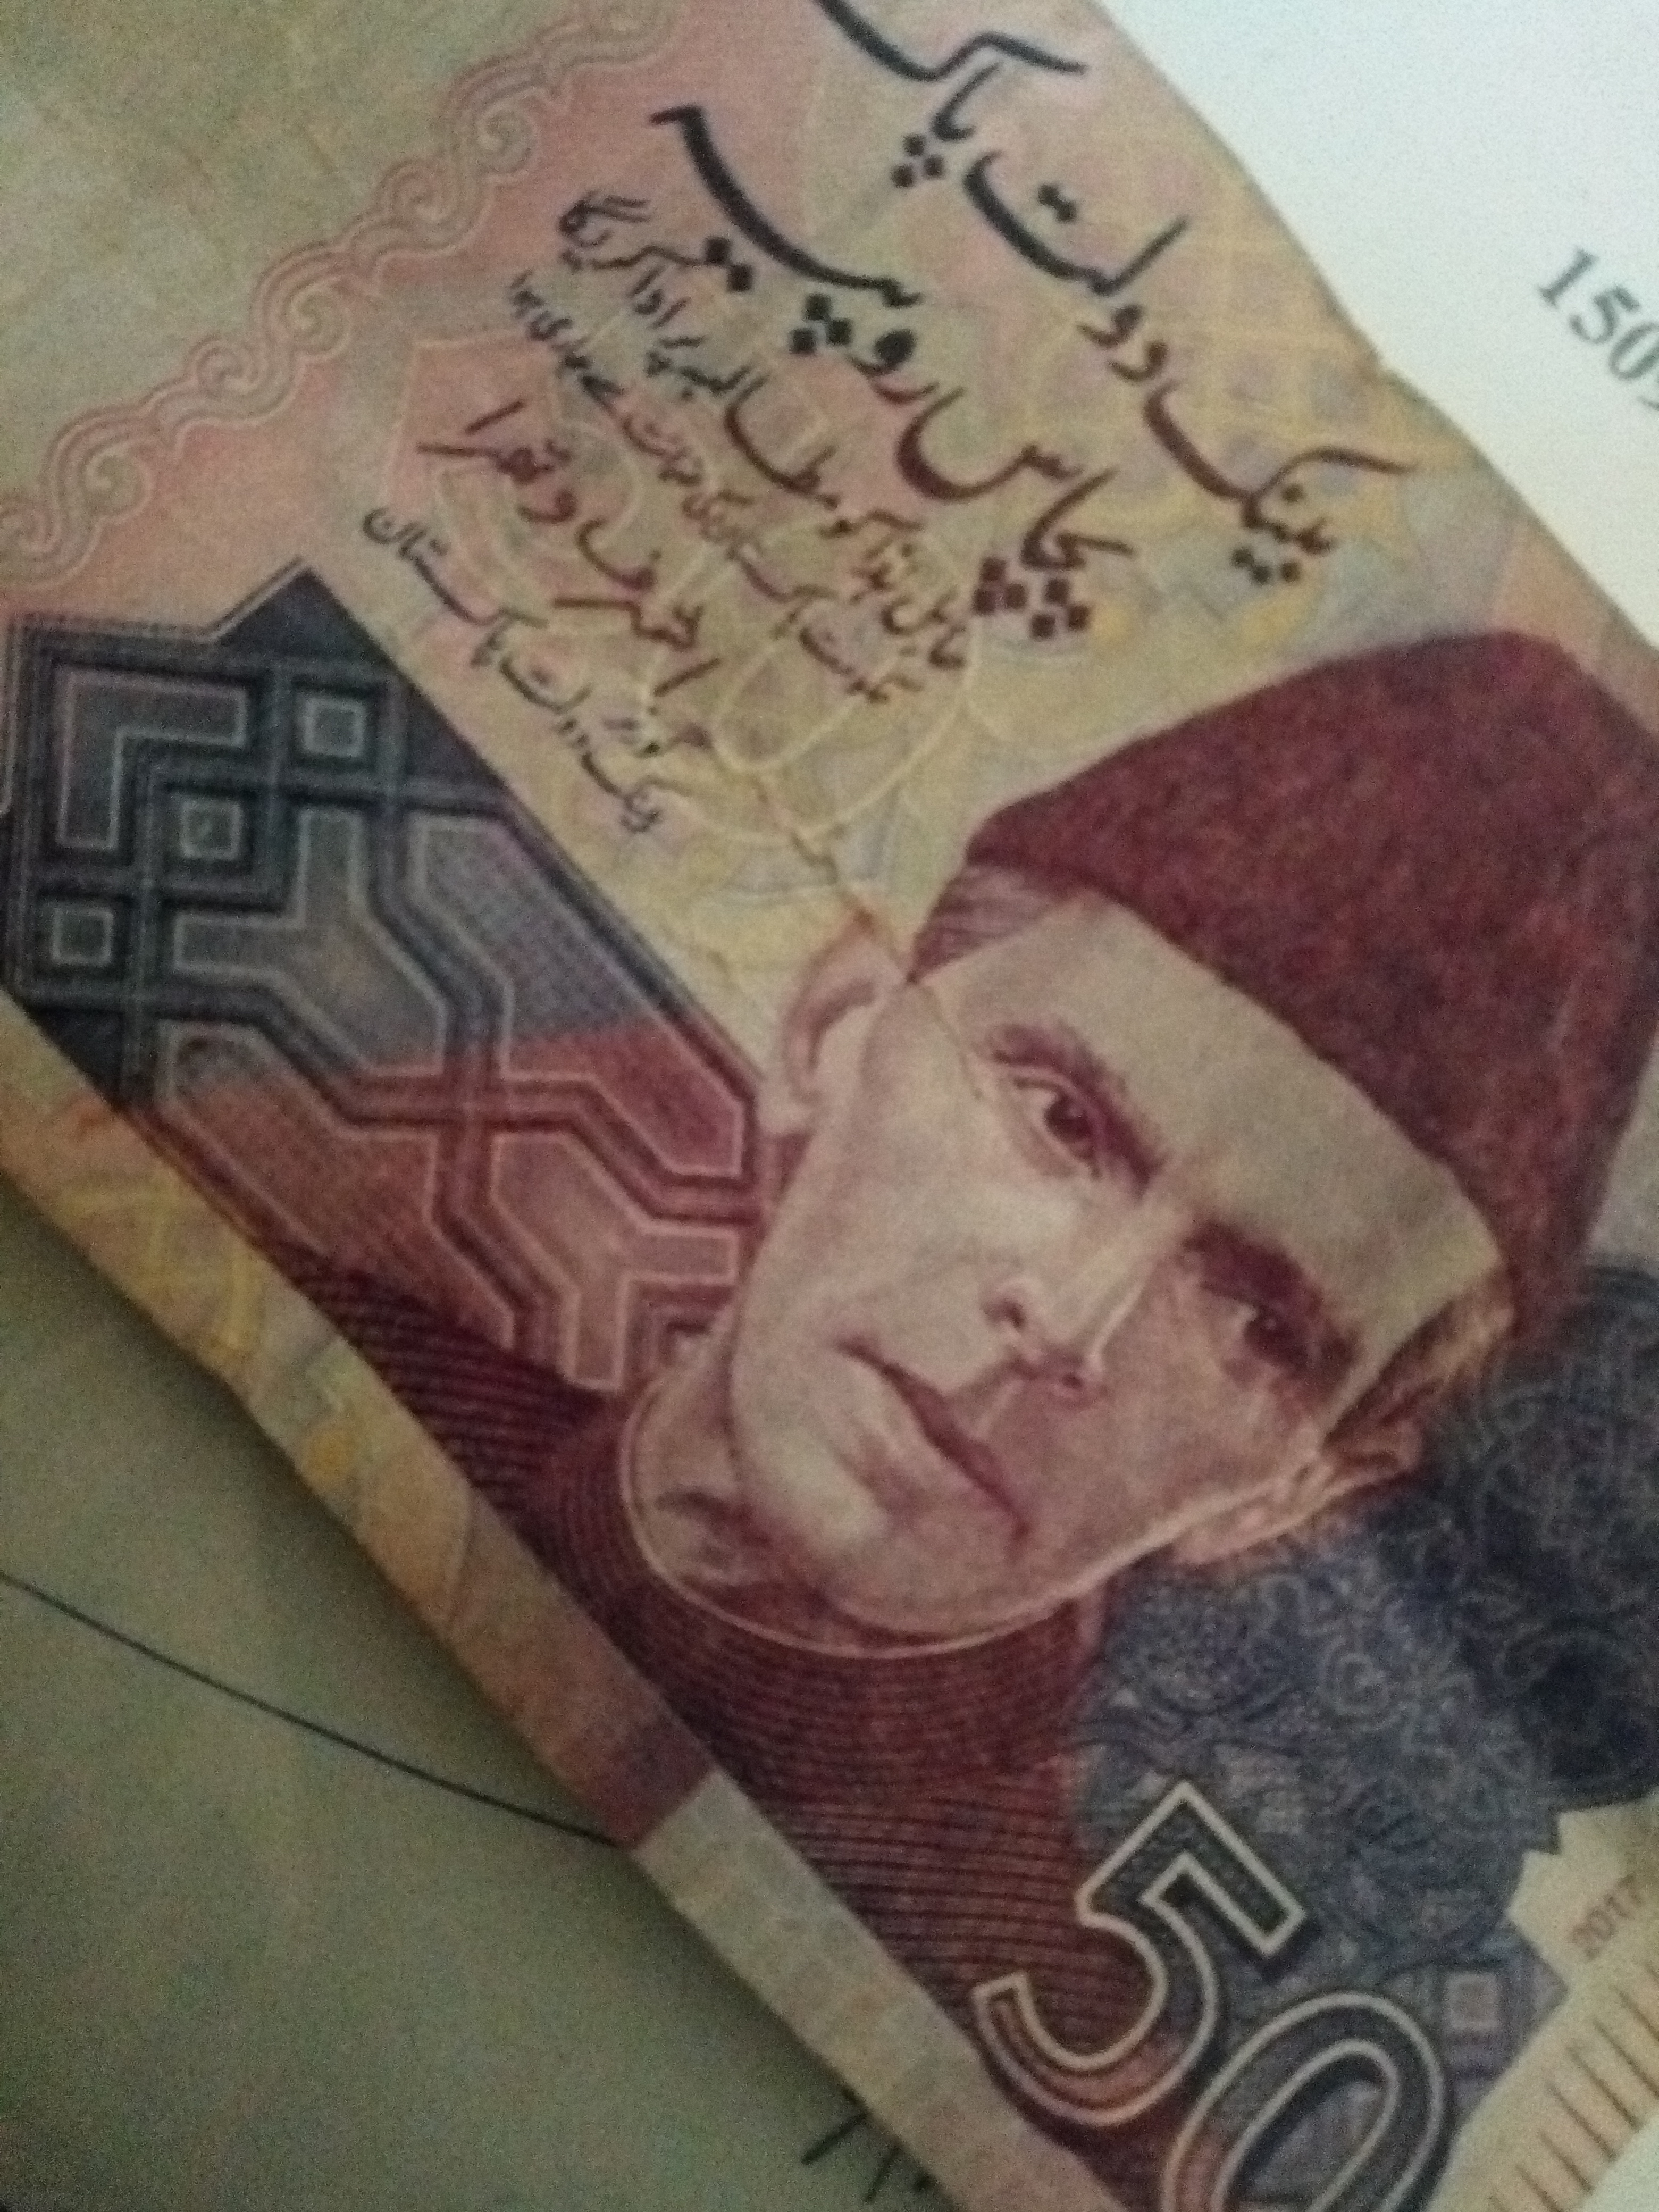50 rupee: (16, 23, 1635, 2179)
